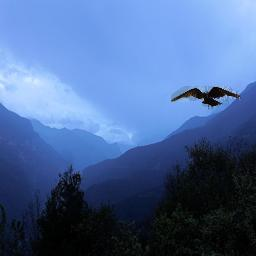Crow: (171, 86, 241, 110)
